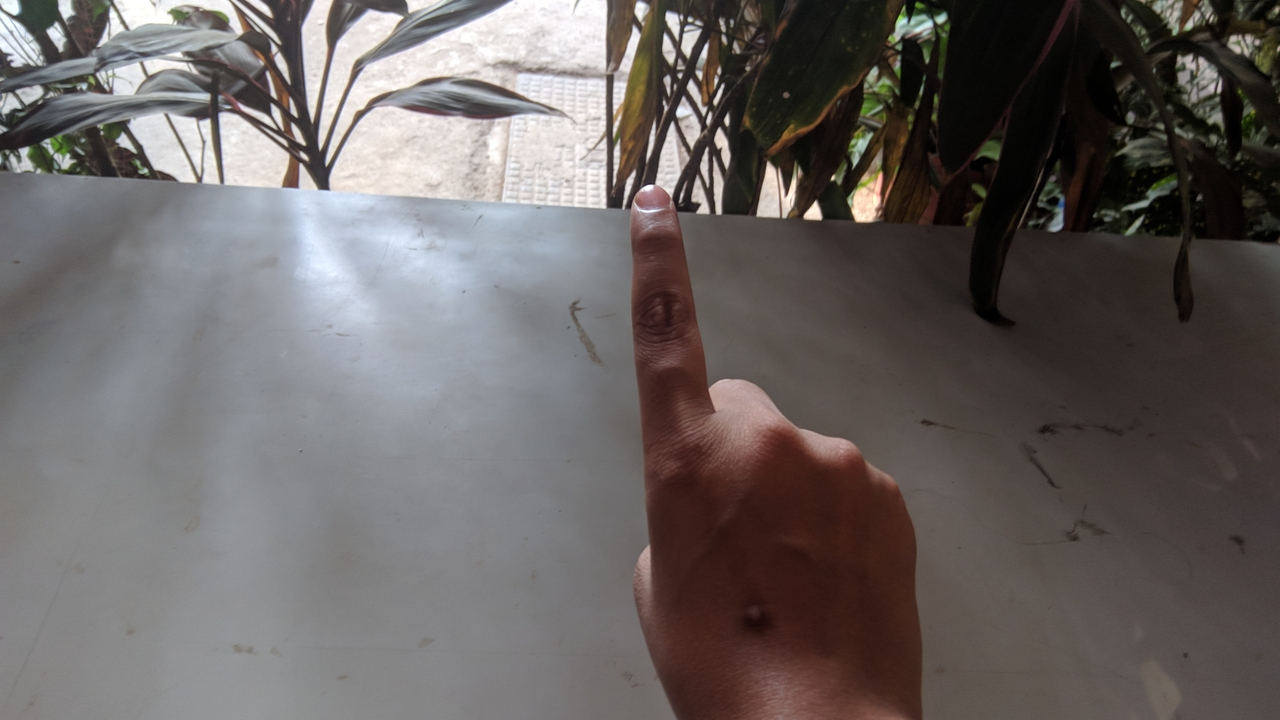fingertip: (622, 174, 684, 230)
